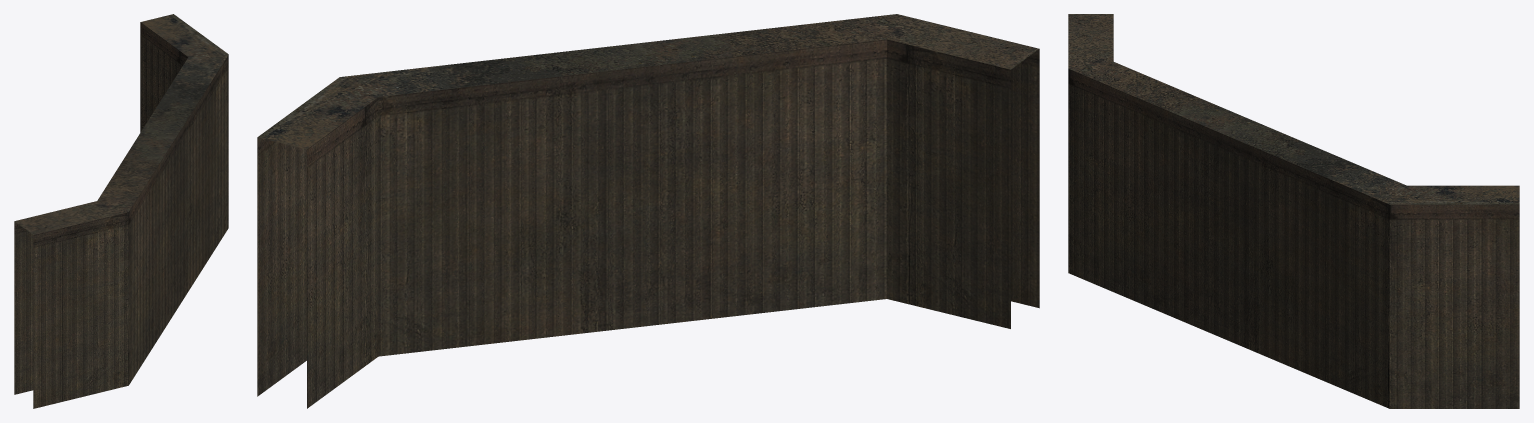
File: wall_rx_1_m1a_1_2_3_height.obj
3 views of the same model, side by side, from view 1: azimuth 30°, elevation 25°; view 2: azimuth 150°, elevation 25°; view 3: azimuth 270°, elevation 25° (orthographic). The views are drawn at different scales.
Parts seen in each view (by area): view 1: wall_rx_1_m1a_1_2/3_height; view 2: wall_rx_1_m1a_1_2/3_height; view 3: wall_rx_1_m1a_1_2/3_height.
Part boxes in pixels (x1=…): wall_rx_1_m1a_1_2/3_height: x1=14, y1=14, x2=228, y2=408; wall_rx_1_m1a_1_2/3_height: x1=257, y1=14, x2=1039, y2=408; wall_rx_1_m1a_1_2/3_height: x1=1068, y1=14, x2=1519, y2=408.
Size of the model in its own units: 4 by 2 by 4.
